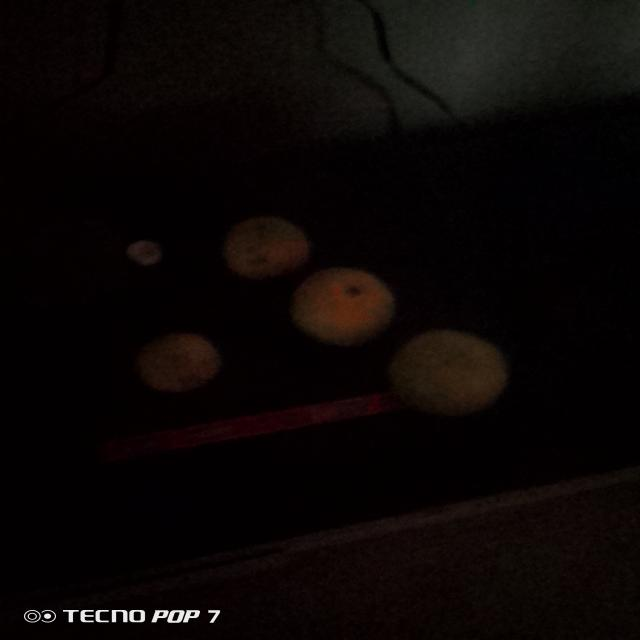Ripe orange: (384, 322, 523, 409), (293, 263, 392, 351), (222, 208, 301, 288), (138, 330, 212, 392)
